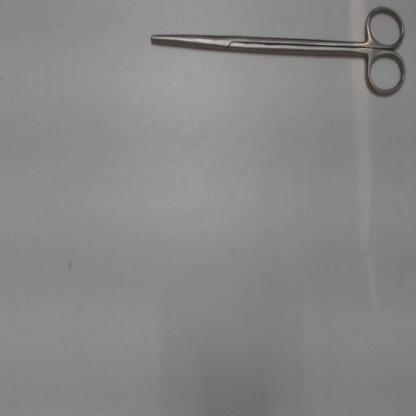9 Metzenbaum Scissors: (146, 4, 410, 106)
